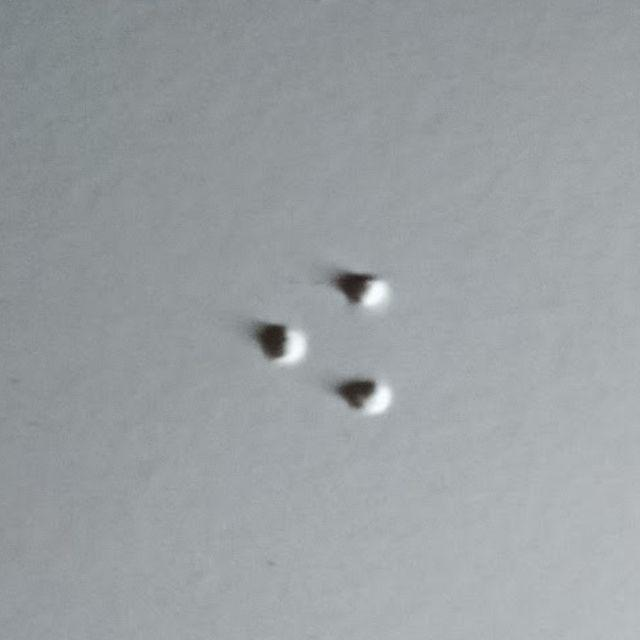dot_5: (201, 274, 308, 415)
kailangan: (338, 273, 445, 415)
